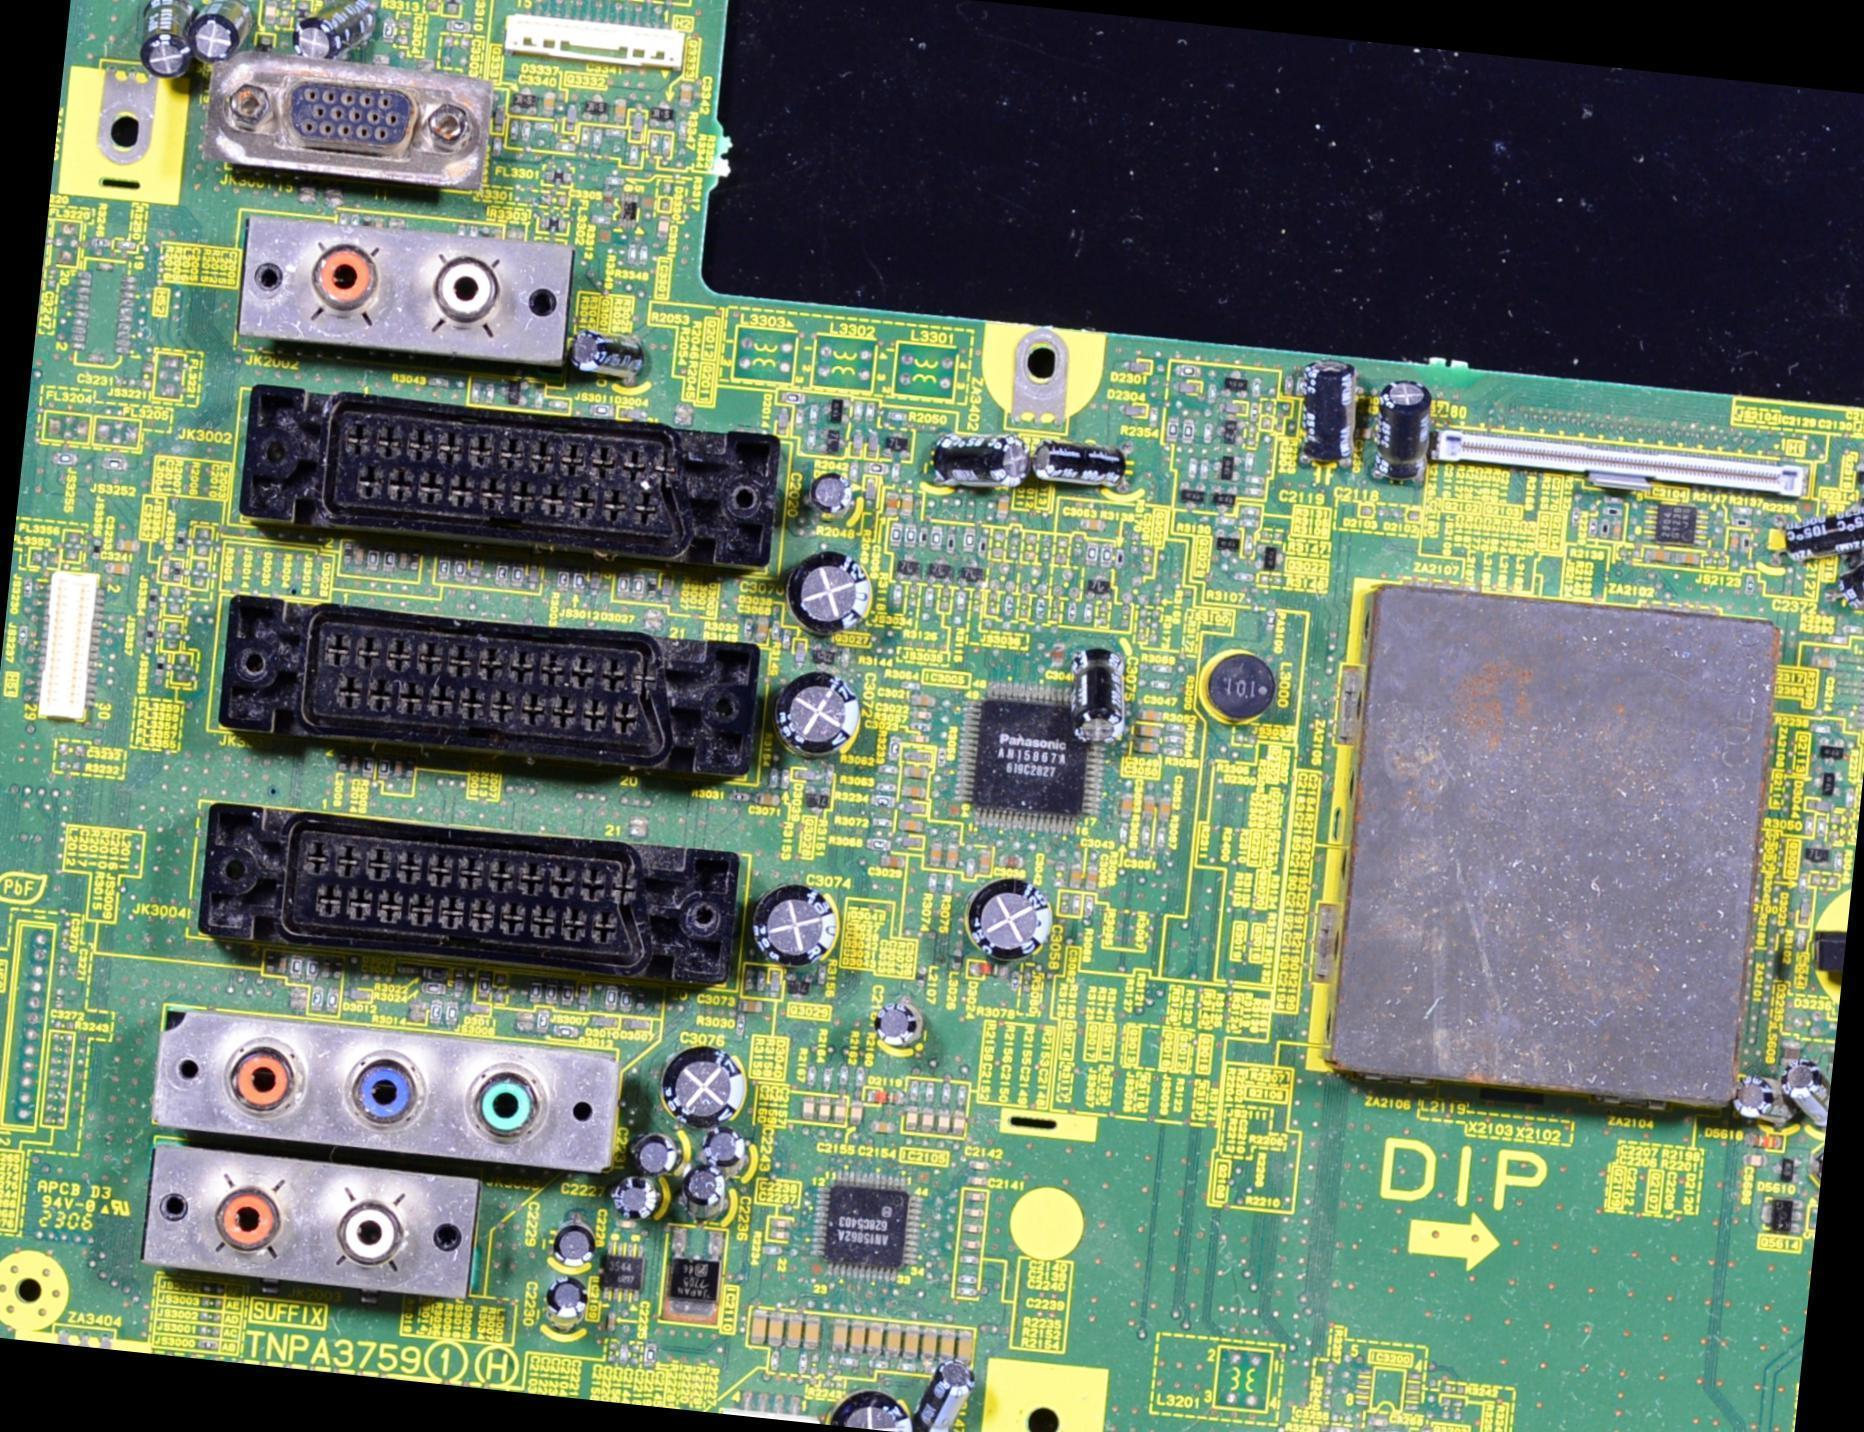Capacitor: (751, 890, 844, 993), (652, 1040, 750, 1125), (1372, 385, 1452, 489), (780, 666, 854, 774), (1287, 368, 1365, 467), (1064, 639, 1136, 742), (1034, 430, 1135, 502), (923, 426, 1031, 494), (1778, 485, 1863, 562), (562, 324, 657, 388), (800, 568, 876, 643), (824, 1377, 920, 1431), (134, 0, 203, 75), (916, 1356, 977, 1431), (1732, 1068, 1799, 1129), (299, 0, 360, 64), (1777, 1058, 1832, 1125), (678, 1158, 732, 1214), (876, 1001, 929, 1051), (546, 1217, 597, 1270), (192, 0, 240, 54), (613, 1171, 661, 1223), (537, 1274, 592, 1317), (629, 1131, 677, 1177), (1838, 532, 1863, 614), (698, 1126, 742, 1162), (679, 1242, 704, 1277), (898, 1328, 925, 1359), (954, 1331, 977, 1368), (830, 1318, 850, 1355), (1113, 792, 1140, 820), (918, 1327, 939, 1361), (1641, 545, 1676, 565), (803, 1314, 823, 1351), (882, 1327, 905, 1356), (875, 851, 910, 871), (766, 1313, 786, 1348), (798, 1094, 818, 1125), (1153, 791, 1171, 827), (974, 846, 994, 876), (937, 1330, 958, 1360), (1136, 705, 1166, 727), (1133, 723, 1167, 741), (784, 1317, 804, 1350), (1138, 792, 1157, 824), (1723, 528, 1743, 556), (904, 763, 931, 783), (740, 998, 770, 1016), (845, 1099, 864, 1130), (991, 494, 1010, 524), (1742, 1151, 1769, 1171), (882, 487, 901, 514), (1080, 515, 1108, 534), (1079, 867, 1099, 890), (897, 817, 927, 833), (816, 1097, 833, 1124), (925, 840, 944, 867), (902, 1107, 919, 1135), (751, 1313, 766, 1344), (868, 1324, 884, 1351), (944, 844, 960, 871), (850, 1327, 870, 1350), (1137, 739, 1162, 756), (1066, 861, 1081, 888), (899, 490, 914, 517), (1675, 550, 1700, 566), (901, 785, 927, 800), (950, 1113, 966, 1134), (832, 1098, 846, 1124), (920, 1108, 935, 1134), (936, 1113, 950, 1135)
Connector: (25, 559, 111, 717)
IC: (949, 681, 1107, 839), (804, 1171, 923, 1284), (663, 1231, 723, 1311), (1637, 497, 1714, 551), (594, 1238, 647, 1305), (1804, 1203, 1817, 1235)
Resistor: (286, 952, 304, 982), (819, 1066, 837, 1097), (1162, 416, 1181, 442), (1180, 417, 1196, 446), (642, 1341, 660, 1367), (306, 956, 321, 985), (1174, 362, 1202, 378), (421, 979, 447, 996), (836, 1063, 853, 1089), (804, 1064, 819, 1090), (427, 1000, 444, 1024), (443, 1000, 456, 1027), (324, 985, 338, 1010), (308, 986, 324, 1010), (362, 757, 378, 780), (617, 1344, 632, 1364), (852, 1064, 865, 1086), (478, 975, 491, 998), (377, 758, 388, 780), (1146, 407, 1159, 426)
Transistor: (1758, 1192, 1805, 1239), (1795, 836, 1844, 879), (1813, 733, 1852, 771), (920, 549, 959, 589), (822, 387, 854, 427), (1175, 477, 1210, 515), (1213, 450, 1247, 486), (1811, 765, 1844, 803), (813, 424, 851, 456), (953, 558, 987, 592), (779, 969, 815, 1002), (1212, 525, 1245, 561), (880, 430, 913, 465), (1251, 544, 1287, 578), (801, 781, 834, 816), (889, 553, 926, 583), (1771, 1154, 1804, 1187), (1222, 370, 1257, 400), (1209, 485, 1240, 517), (1213, 416, 1260, 434), (1087, 571, 1114, 603)
